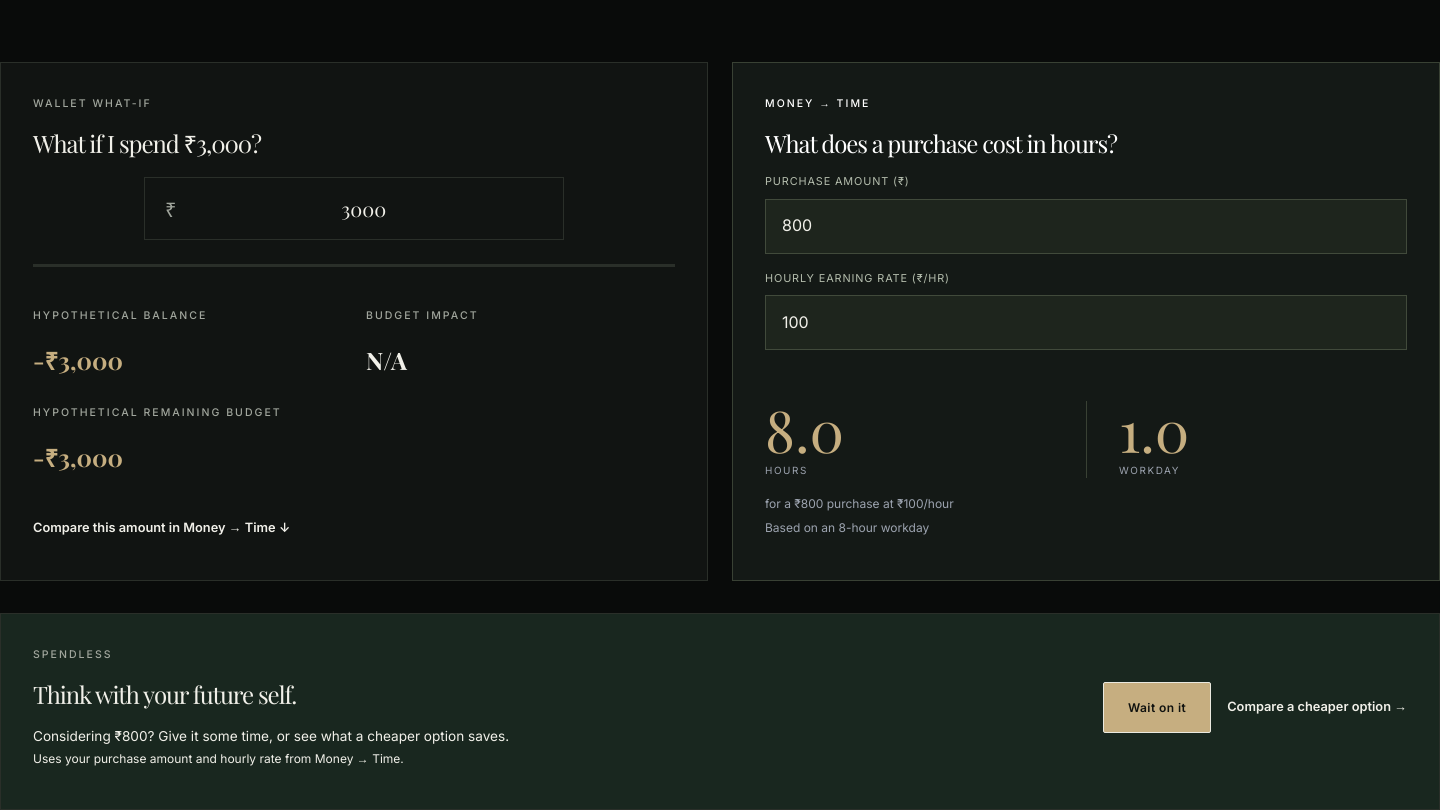
Test: Purchase reflection › compares prices and handles invalid prices and zero hourly rates
The image size is (1440, 810).
(page scrolled)
Click the button "Compare a cheaper option →" at {"x": 1317, "y": 708}, box [1227,688,1407,728]
(page scrolled)
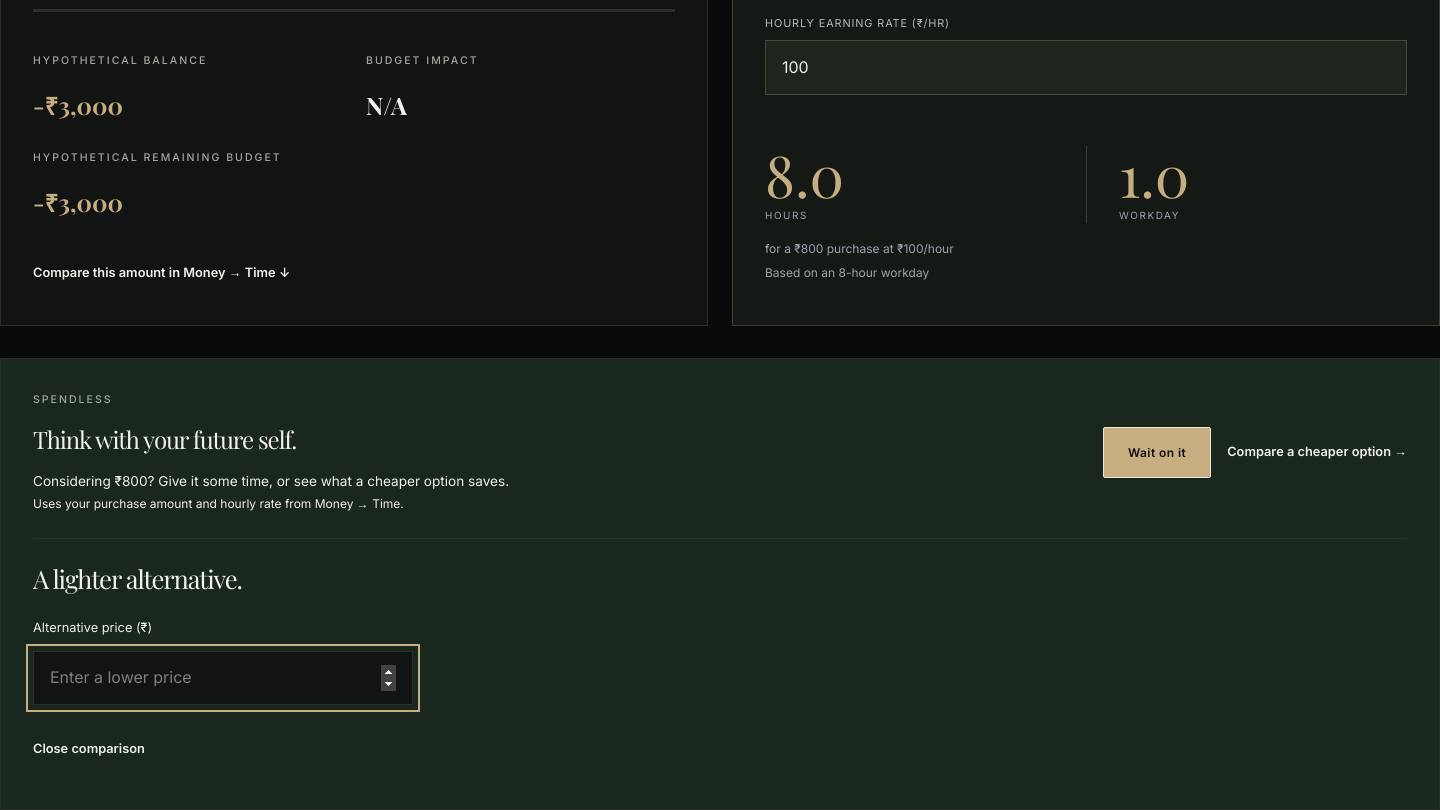
Type "400" into the number field labelled "Alternative price (₹)" at {"x": 223, "y": 678}, box [33,651,413,705]
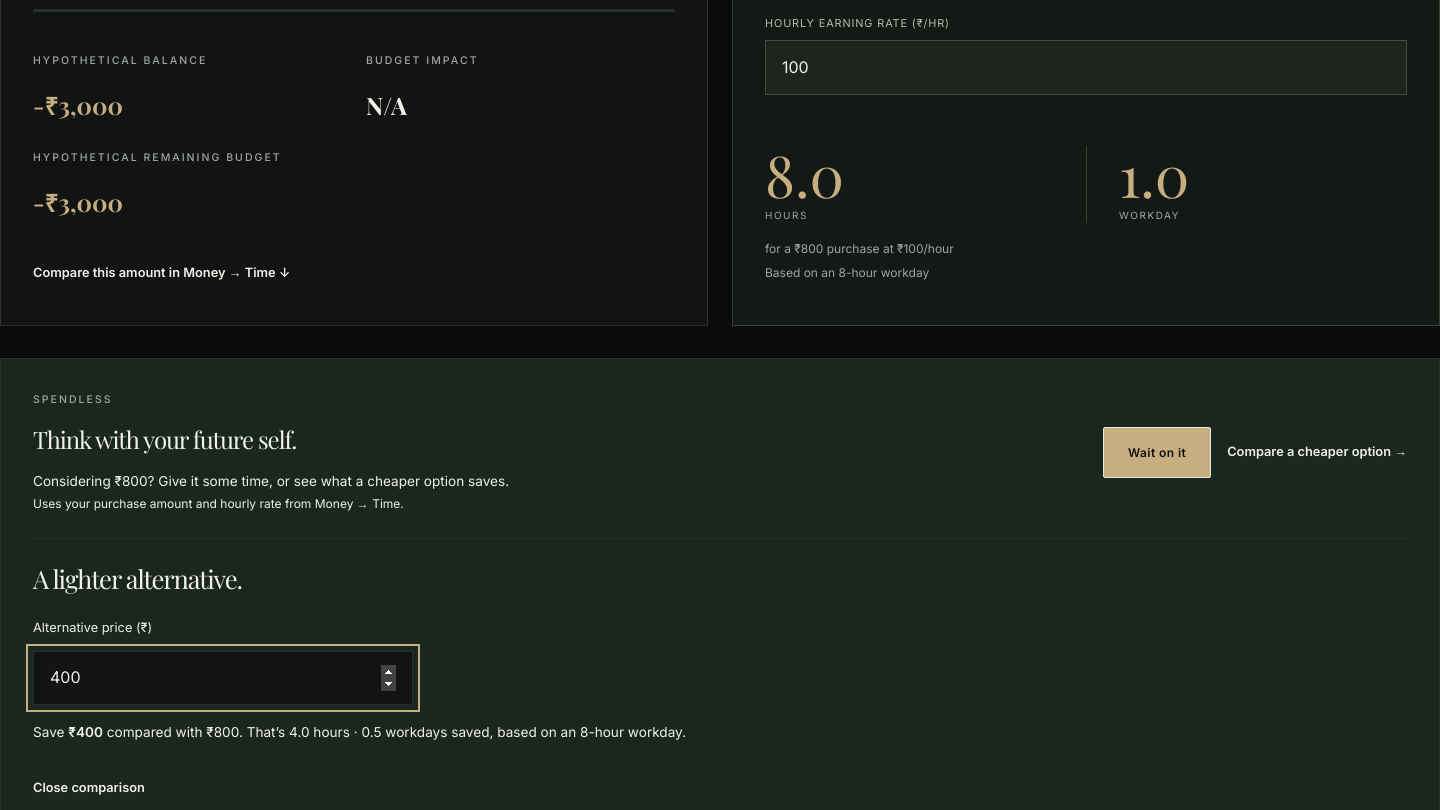
Now the text "4.0 hours · 0.5 workdays saved" is shown, box [243,724,686,740]
Replace the text in the number field labelled "Alternative price (₹)" with "900" at {"x": 223, "y": 678}, box [33,651,413,705]
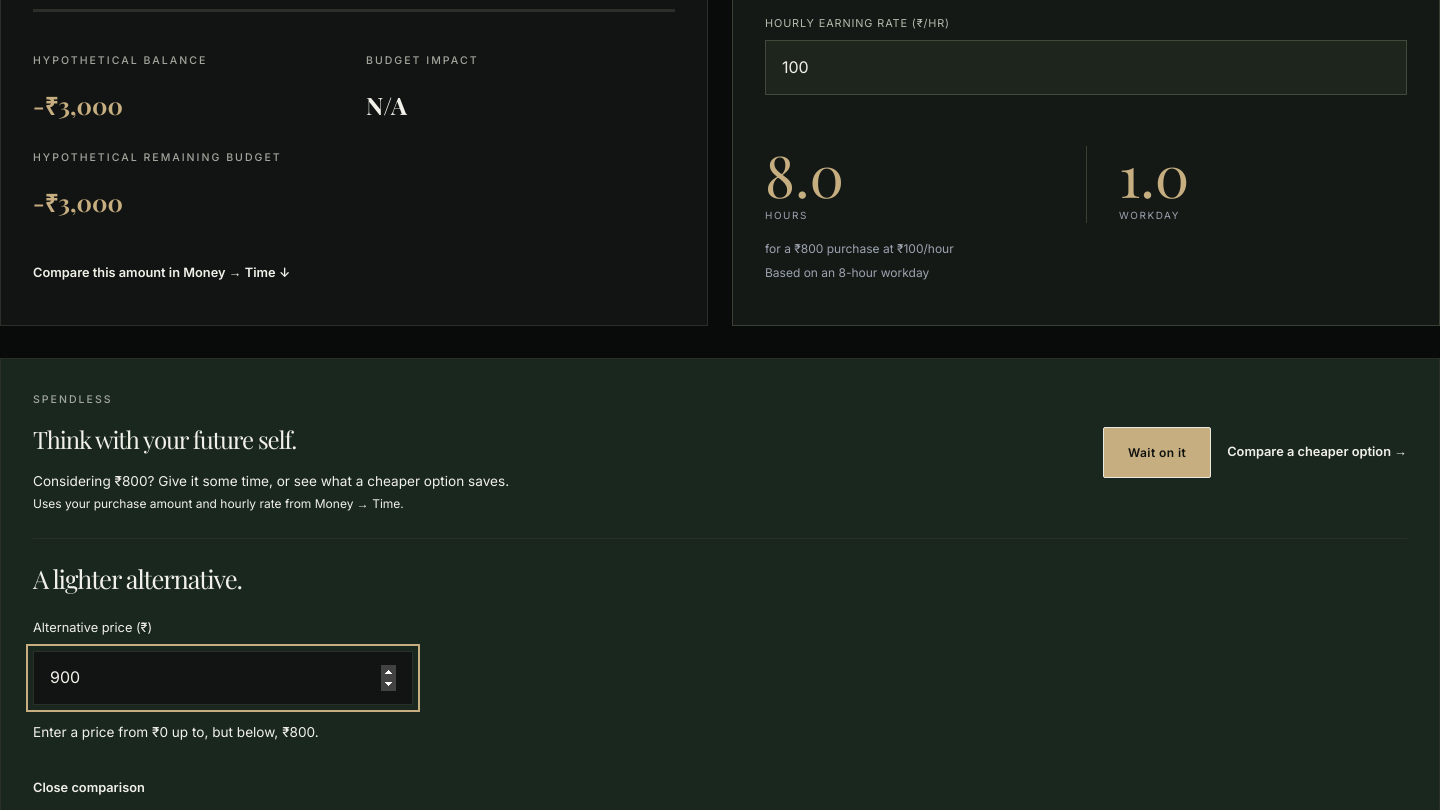
Now the text "Enter a price from ₹0 up to, but below, ₹800." is shown, box [33,724,319,740]
Replace the text in the number field labelled "Alternative price (₹)" with "0" at {"x": 223, "y": 678}, box [33,651,413,705]
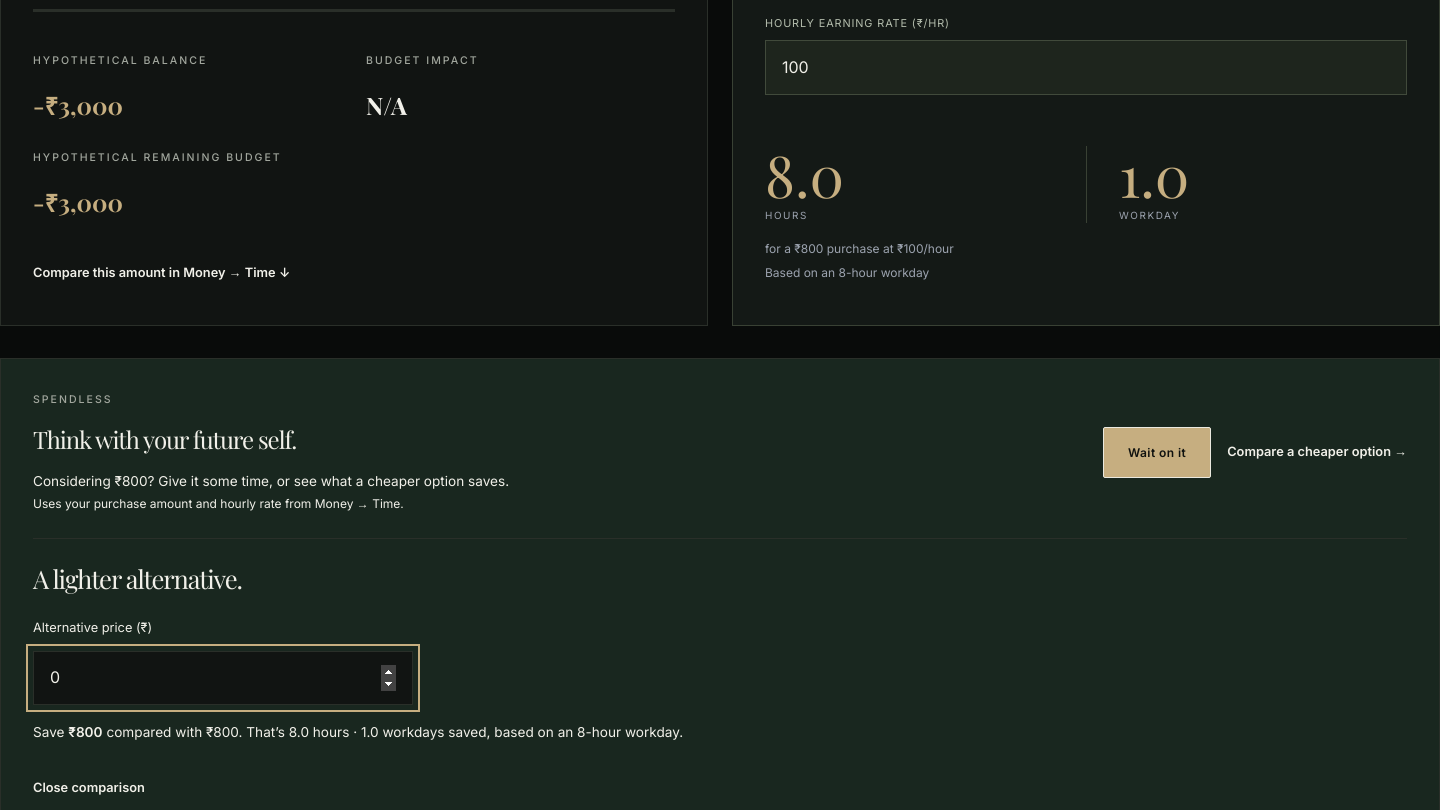
Type "0" into the number field named "Hourly wage in rupees per hour" at {"x": 1086, "y": 67}, box [765,40,1407,95]
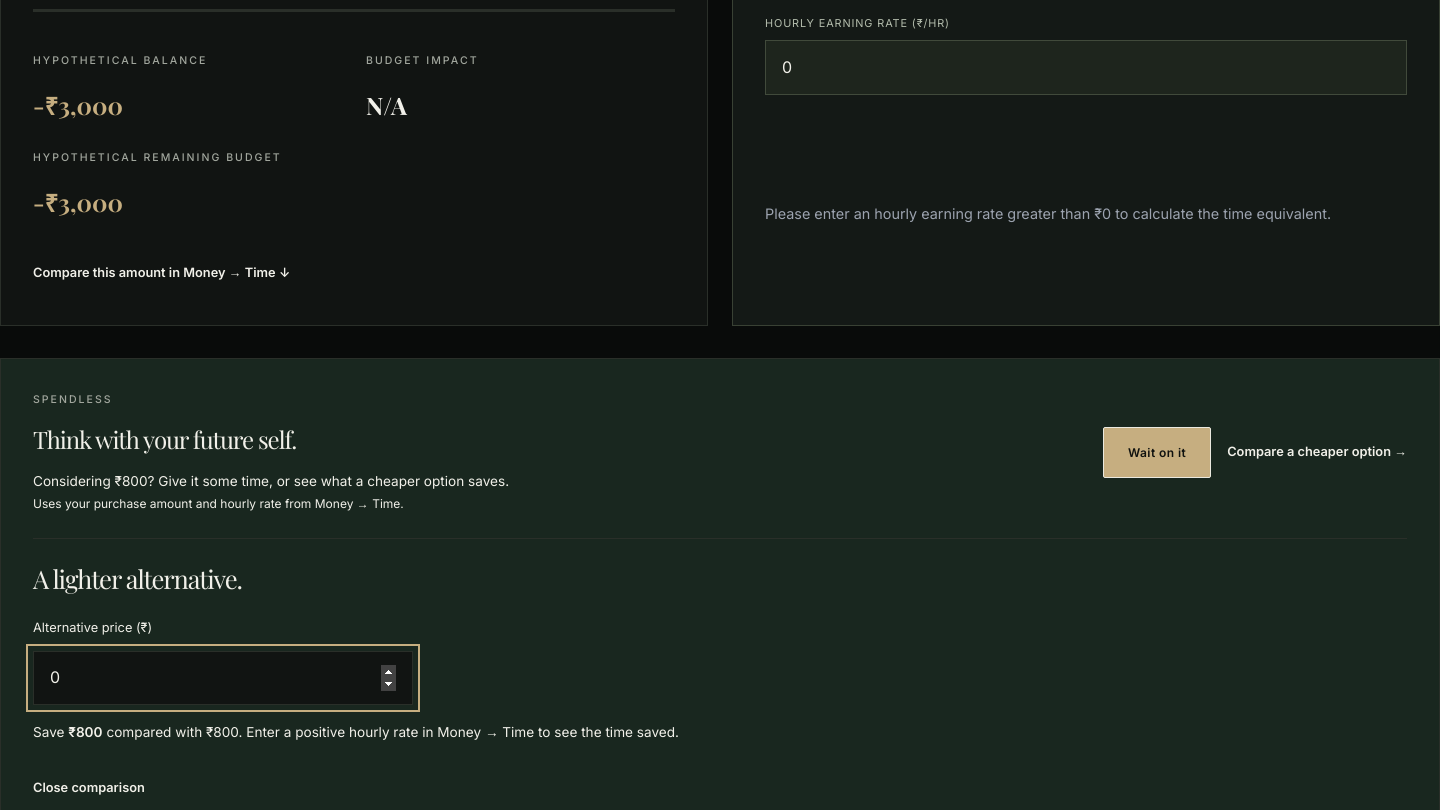
Now the text "Enter a positive hourly rate" is shown, box [242,724,679,740]
